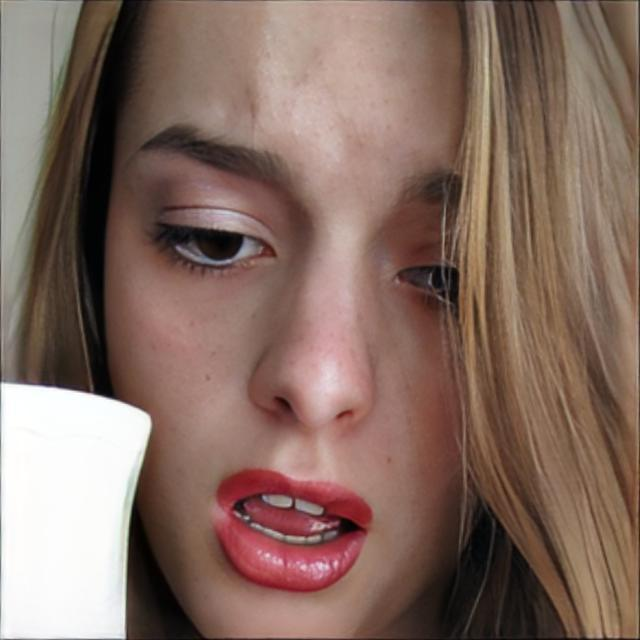sad: (105, 0, 508, 640)
